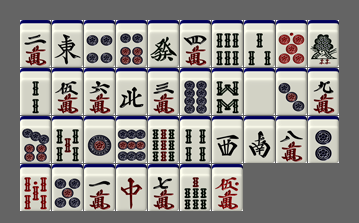0m: (212, 164, 243, 211)
0p: (276, 20, 307, 67)
0s: (20, 164, 51, 211)
1m: (84, 164, 115, 211)
1p: (84, 116, 115, 163)
1s: (308, 20, 339, 67)
1z: (52, 20, 83, 67)
2m: (20, 20, 51, 67)
2p: (308, 116, 339, 163)
2s: (20, 68, 51, 115)
2z: (244, 116, 275, 163)
3m: (148, 68, 179, 115)
3p: (276, 68, 307, 115)
3s: (244, 20, 275, 67)
3z: (212, 116, 243, 163)
4m: (180, 20, 211, 67)
4p: (84, 20, 115, 67)
4s: (180, 116, 211, 163)
4z: (116, 68, 147, 115)
5m: (52, 68, 83, 115)
5p: (52, 164, 83, 211)
5s: (52, 116, 83, 163)
5z: (244, 68, 275, 115)
6m: (84, 68, 115, 115)
6p: (116, 20, 147, 67)
6s: (212, 20, 243, 67)
6z: (148, 20, 179, 67)
7m: (148, 164, 179, 211)
7p: (20, 116, 51, 163)
7s: (180, 164, 211, 211)
7z: (116, 164, 147, 211)
8m: (276, 116, 307, 163)
8p: (180, 68, 211, 115)
8s: (212, 68, 243, 115)
9m: (308, 68, 339, 115)
9p: (116, 116, 147, 163)
9s: (148, 116, 179, 163)
